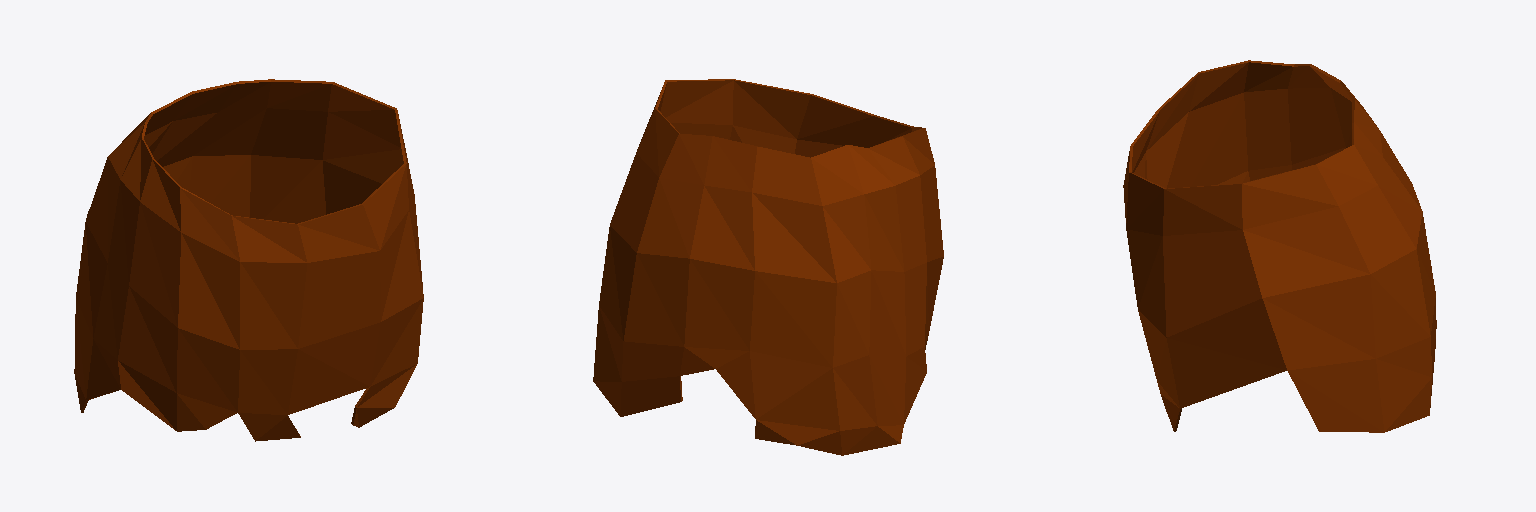
The model's file is cloth_reto.obj.
3 renders of one model, left to right at view 1: azimuth 30°, elevation 25°; view 2: azimuth 150°, elevation 25°; view 3: azimuth 270°, elevation 25°, orthographic.
Parts seen in each view (by area): view 1: Plane001; view 2: Plane001; view 3: Plane001.
Boxes of the visible parts, <box> form: Plane001: <box>74,79,423,441</box>; Plane001: <box>593,79,943,455</box>; Plane001: <box>1123,60,1436,432</box>.
Bounding box in the file's own units: 2.54 × 2.3 × 2.24.